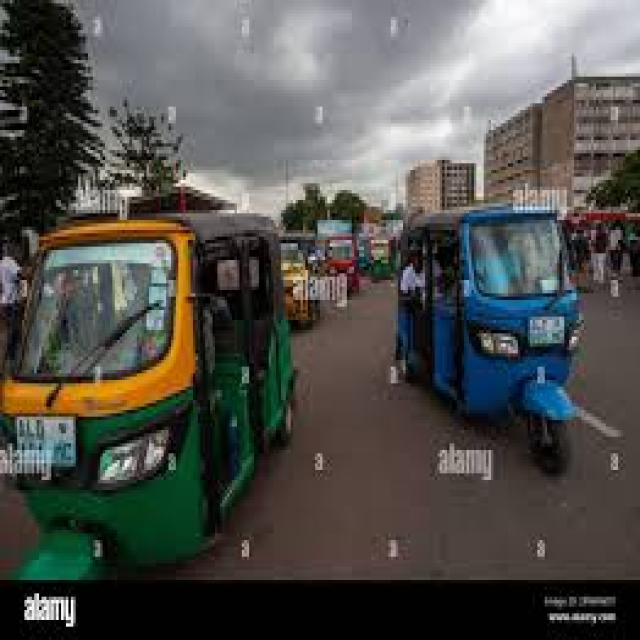person: (0, 240, 20, 373), (594, 223, 606, 283), (608, 227, 620, 273)
three wheeler: (0, 213, 291, 580), (398, 207, 579, 470), (327, 237, 357, 290), (371, 237, 388, 277)
